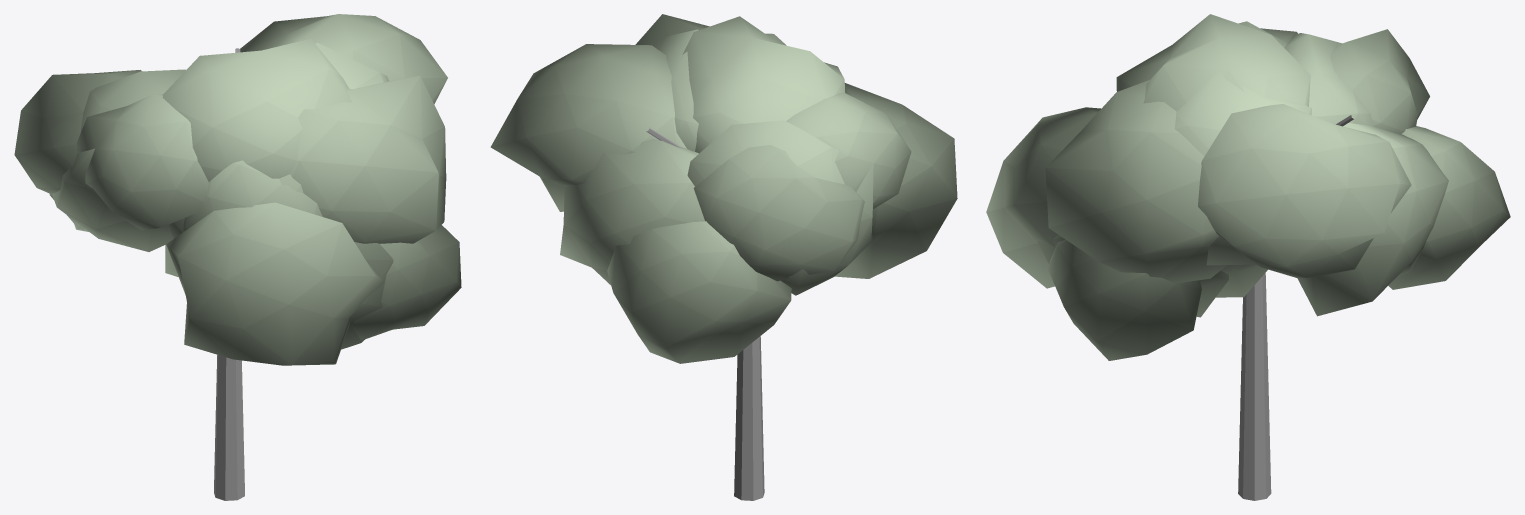
Rendered from drzewo-lisciaste.pbr.glb.
3 views of the same model, side by side, from view 1: azimuth 30°, elevation 25°; view 2: azimuth 150°, elevation 25°; view 3: azimuth 270°, elevation 25° (orthographic). The views are drawn at different scales.
Visible parts, largest first — view 1: drzewo-lisciaste; view 2: drzewo-lisciaste; view 3: drzewo-lisciaste.
Boxes of the visible parts, bbox=[...] form: drzewo-lisciaste: bbox=[14, 14, 461, 500]; drzewo-lisciaste: bbox=[490, 14, 957, 500]; drzewo-lisciaste: bbox=[986, 14, 1510, 500].
Size of the model in its own units: 8.05 by 9.25 by 9.49.
